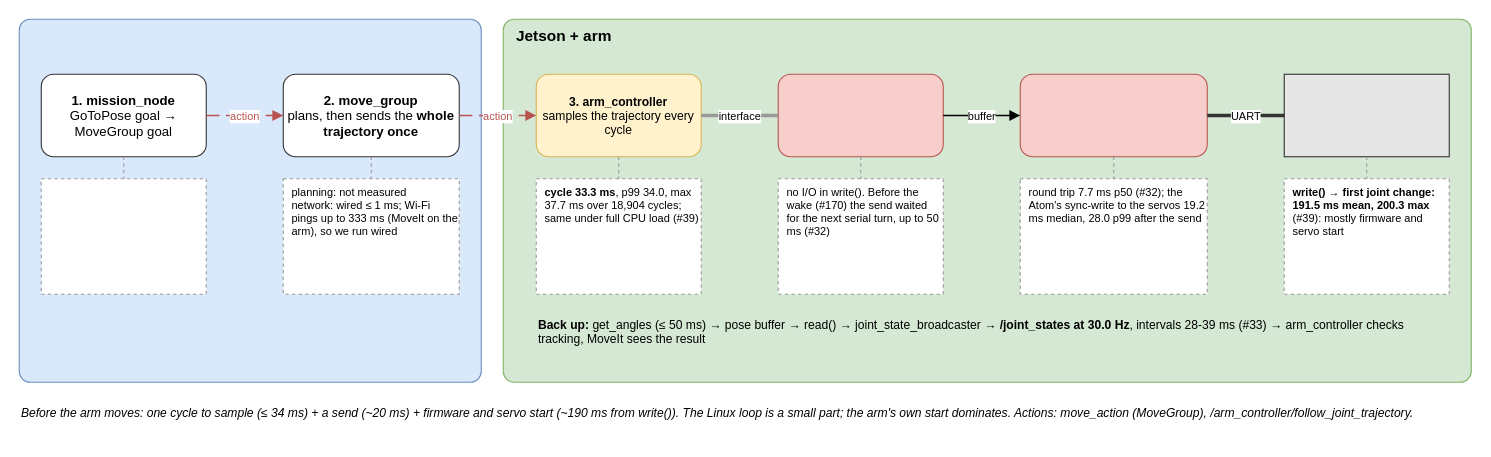
Image size: 1491x457. Some labels were removed from this diagram. Each missing label, with the box of its shape:
4. write() limit check, copy to buffer, wake the serial thread: (777, 73, 943, 157)
5. serial thread send_angles on /dev/ttyTHS1: (1019, 73, 1207, 157)
6. servos move Atom → servo bus: (1283, 73, 1449, 157)
Laptop: (18, 18, 481, 382)
not measured: (40, 178, 206, 294)
